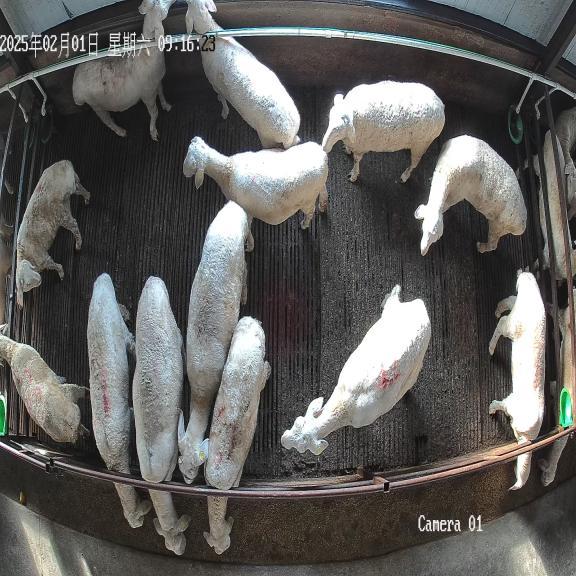eating: (87, 273, 152, 528), (132, 276, 190, 555), (203, 316, 270, 554), (489, 270, 546, 490)
stand: (281, 285, 431, 453), (178, 201, 253, 483), (186, 0, 300, 148), (72, 0, 175, 140), (414, 134, 527, 255), (183, 136, 328, 229), (322, 81, 445, 182), (16, 160, 90, 308), (0, 334, 89, 442)
